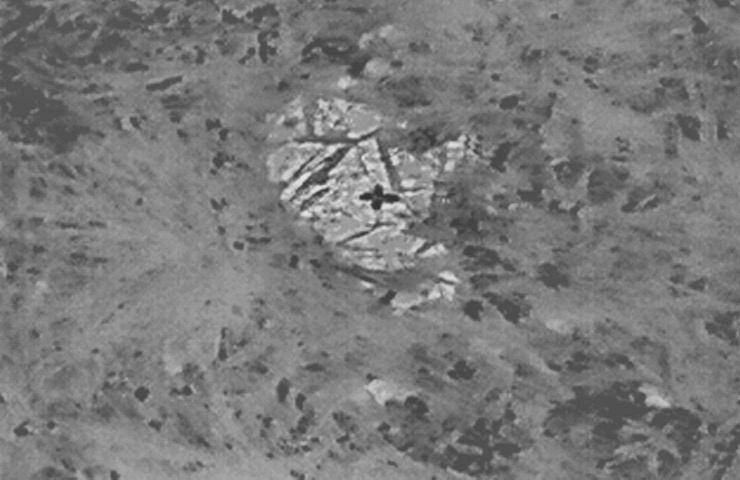landmines: (270, 63, 488, 311)
